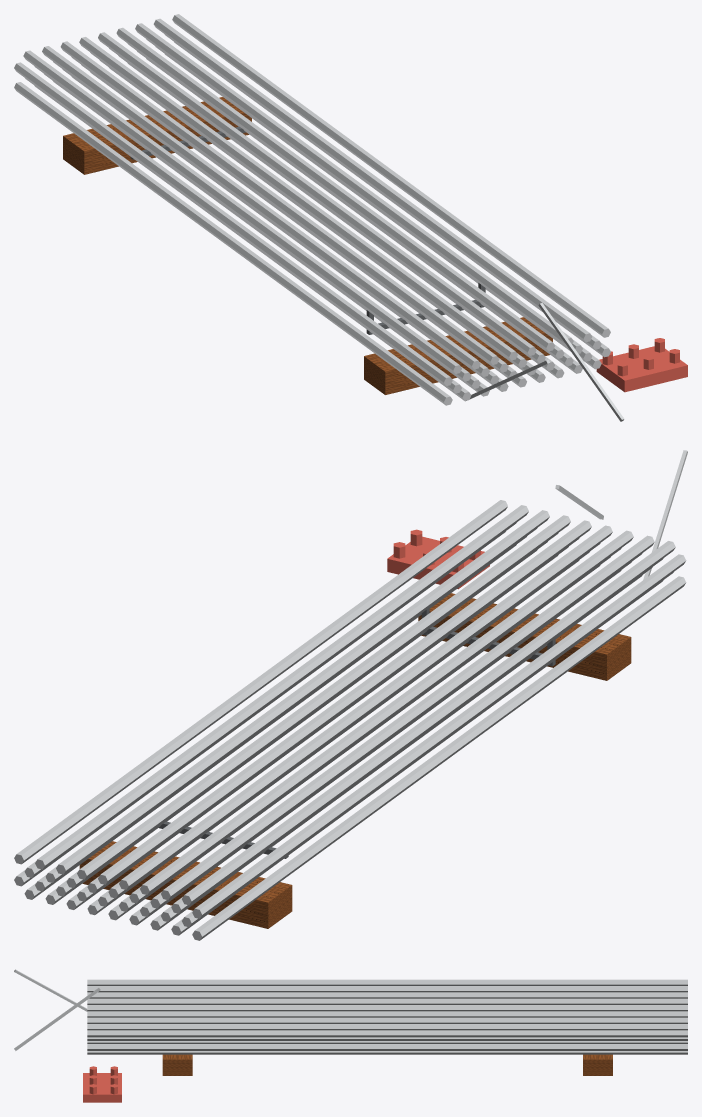
File: demolition-and-site-clearance-demolition-and-site-clea-573e9b3c__35683.glb
The picture shows the model from 3 angles, top to bottom: view 1: azimuth 30°, elevation 25°; view 2: azimuth 150°, elevation 25°; view 3: azimuth 270°, elevation 25°; orthographic projection. The views are drawn at different scales.
Visible parts, largest first — view 1: demolition-and-site-clearance-rebar-bundle; view 2: demolition-and-site-clearance-rebar-bundle; view 3: demolition-and-site-clearance-rebar-bundle.
Part boxes in pixels (x1,y1,x2,y2): demolition-and-site-clearance-rebar-bundle: (14,14,687,421); demolition-and-site-clearance-rebar-bundle: (14,450,687,940); demolition-and-site-clearance-rebar-bundle: (14,969,687,1102).
Size of the model in its own units: 1.32 by 0.5042 by 4.49.
Materials: 4 (1 with a texture image).
